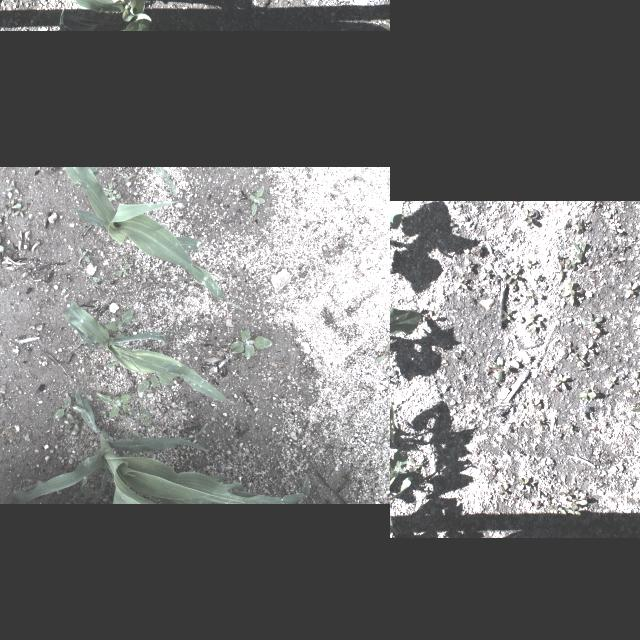crop: (6, 388, 310, 502), (65, 166, 242, 308), (60, 297, 236, 405), (43, 0, 155, 27), (390, 305, 423, 370), (390, 447, 414, 511), (154, 167, 178, 196), (390, 506, 402, 537)
weed: (229, 330, 269, 360), (95, 392, 135, 418), (106, 307, 134, 337), (138, 376, 176, 392), (486, 356, 510, 380), (248, 185, 268, 213), (50, 396, 72, 420), (562, 280, 582, 304), (563, 494, 587, 512), (373, 340, 390, 365), (134, 406, 154, 426), (581, 311, 603, 329), (64, 412, 82, 432), (2, 200, 22, 216), (524, 288, 544, 304), (74, 244, 90, 262), (112, 262, 130, 278), (521, 207, 537, 225), (572, 240, 586, 260), (419, 308, 438, 322), (478, 264, 494, 280), (408, 458, 424, 474), (624, 280, 638, 298), (524, 313, 536, 332), (6, 181, 22, 195), (506, 266, 520, 282), (552, 262, 568, 276), (553, 373, 567, 389), (560, 508, 582, 518), (576, 391, 596, 401), (580, 340, 594, 354), (12, 204, 28, 216), (562, 341, 578, 353), (105, 359, 119, 371), (499, 308, 511, 322), (576, 216, 590, 228), (557, 250, 569, 264), (529, 398, 541, 412), (518, 477, 530, 491), (548, 504, 562, 516), (558, 489, 572, 501), (85, 274, 101, 284), (570, 246, 580, 262), (0, 237, 6, 262), (573, 352, 585, 364), (104, 182, 114, 196), (348, 173, 362, 183), (464, 259, 474, 273), (498, 484, 508, 498), (0, 397, 12, 408), (458, 276, 468, 288), (566, 256, 576, 268), (607, 376, 617, 388), (535, 418, 545, 430), (568, 488, 580, 498), (632, 371, 640, 385), (488, 377, 498, 388), (112, 188, 121, 200), (390, 367, 396, 384), (124, 173, 134, 183), (630, 406, 640, 416), (634, 324, 640, 339), (504, 200, 518, 206), (527, 258, 535, 268), (532, 272, 540, 280), (566, 424, 572, 434), (102, 409, 108, 418), (131, 431, 139, 437), (86, 247, 92, 253)
